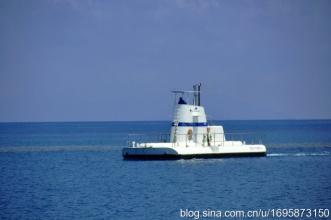otherboat: (117, 80, 269, 162)
